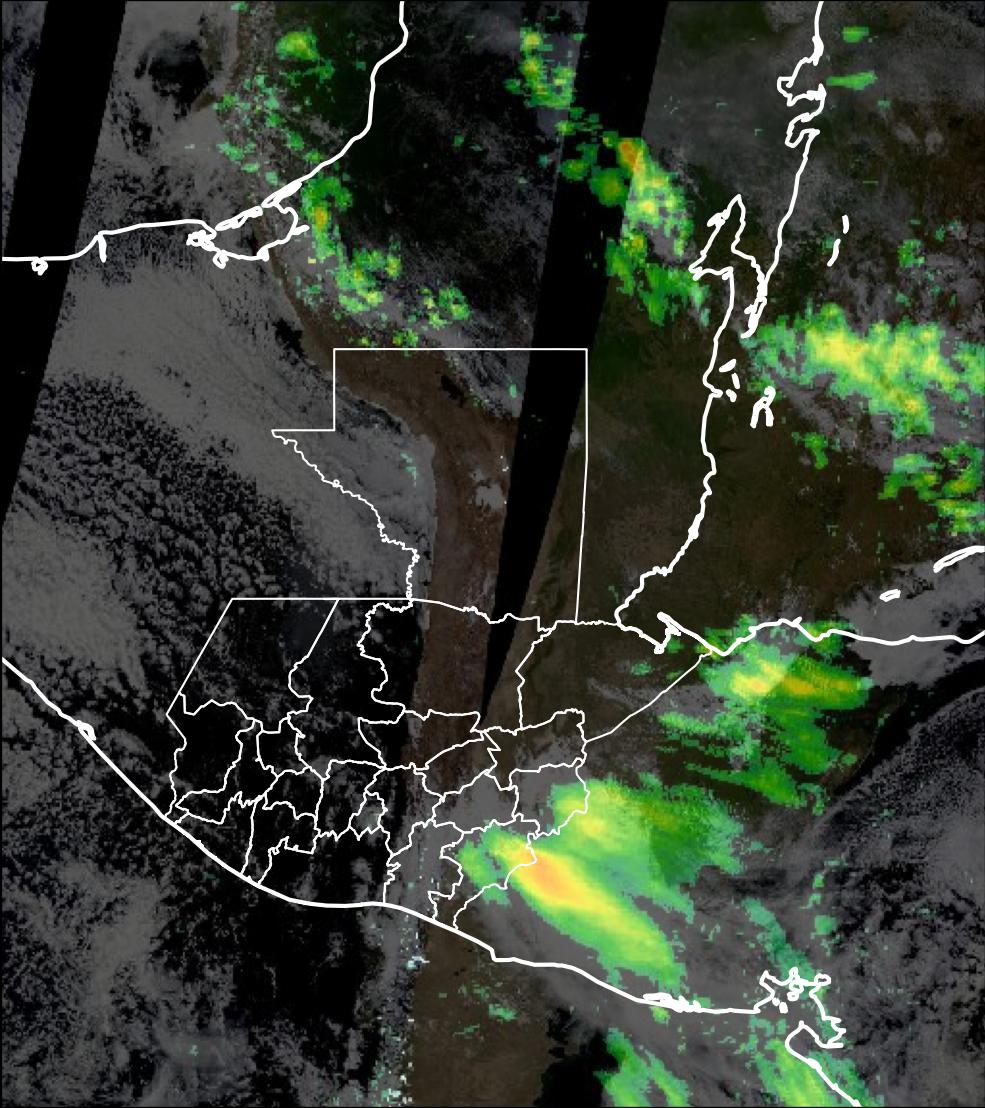precipitacion: (504, 834, 617, 930)
